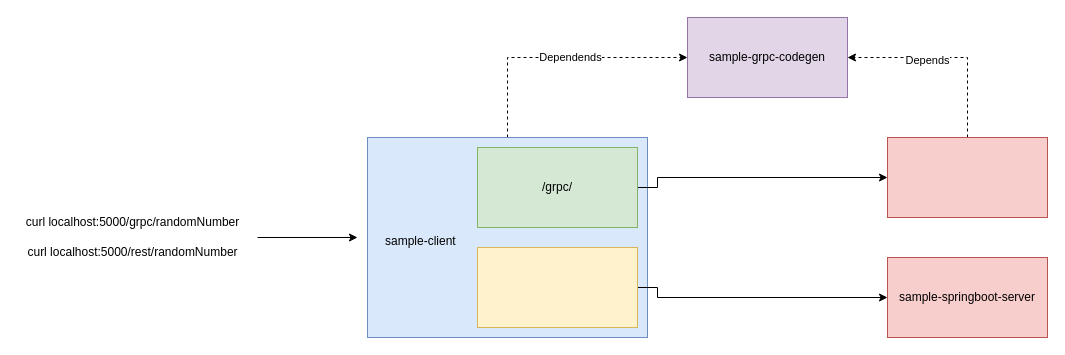
The diagram is 1065 pixels wide and 355 high, and some of its shapes have lost their labels. The shapes that lost their labels are listed below. From the top down, each one's box as (x1, y1, x2, y2) in pixels, then its label:
(886, 136, 1048, 218): sample-grpc-server
(476, 246, 638, 328): /rest/
